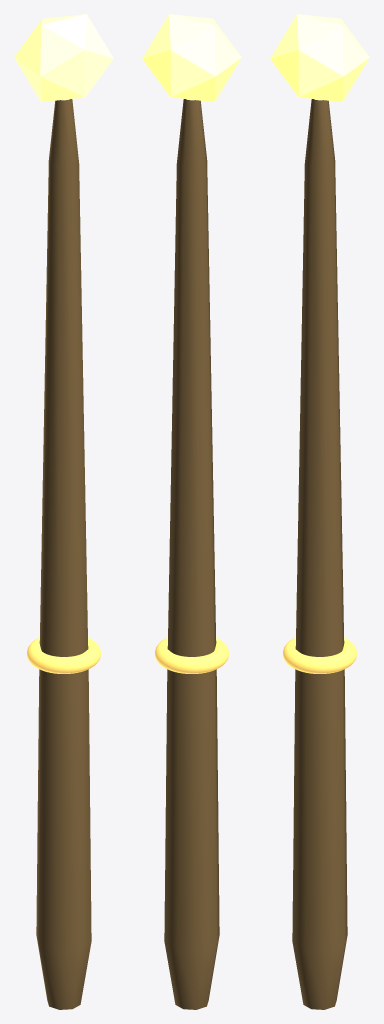
The model's file is apprentice_wand.glb.
The picture shows the model from 3 angles, left to right: view 1: azimuth 30°, elevation 25°; view 2: azimuth 150°, elevation 25°; view 3: azimuth 330°, elevation 25°; orthographic projection.
Parts seen in each view (by area): view 1: aw_shaft, aw_gem, aw_band; view 2: aw_shaft, aw_gem, aw_band; view 3: aw_shaft, aw_gem, aw_band.
Part boxes in pixels (bbox=[...]): aw_shaft: bbox=[36, 99, 91, 1009]; aw_gem: bbox=[14, 14, 113, 101]; aw_band: bbox=[27, 637, 100, 673]; aw_shaft: bbox=[164, 99, 219, 1009]; aw_gem: bbox=[142, 14, 241, 101]; aw_band: bbox=[155, 637, 228, 673]; aw_shaft: bbox=[292, 99, 347, 1009]; aw_gem: bbox=[270, 14, 369, 101]; aw_band: bbox=[283, 637, 356, 673].
Size of the model in its own units: 0.0595 by 0.7598 by 0.0595.
